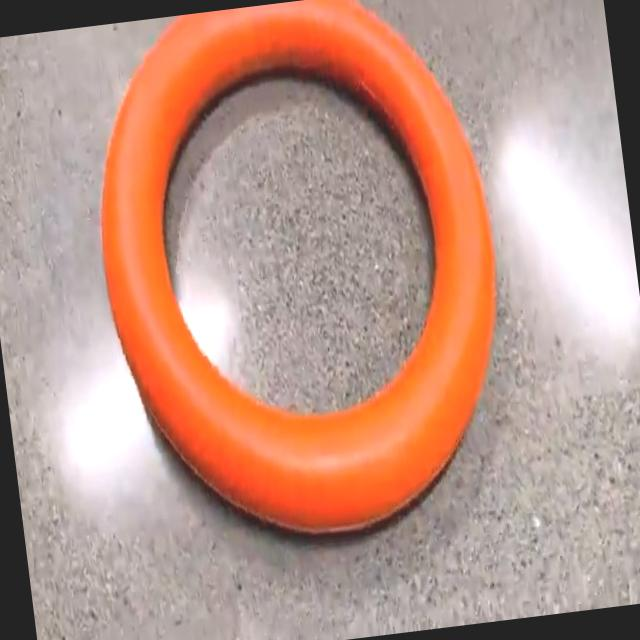note: (101, 0, 494, 531)
